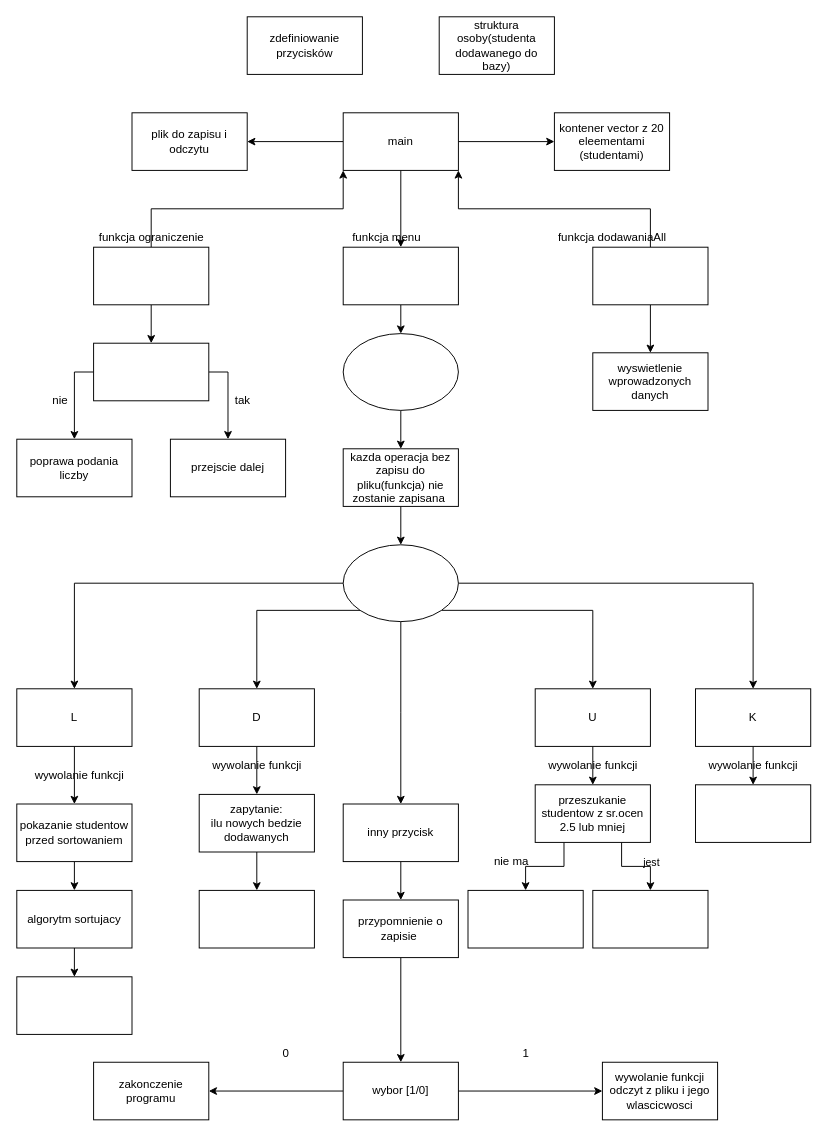
This 828x1137 diagram has some shape labels left out. The shapes that lost their labels are listed below. From the top down, each one's centre as x and y in pixels, then its label:
pixel 151 275: zapytanie ilu studentow dodawac
pixel 400 275: wyswietlenie menu
pixel 650 275: wprowadzenie imie,nazwisko,srocen, nralbumu,wiek
pixel 151 371: liczbaMax > 20
pixel 400 371: petla value != KEY_X
pixel 400 583: wybor odpowidnich przyciskow z menu
pixel 753 813: zapis do pliku, wszystkich operacji w programie
pixel 256 918: wypisanie danych nowego studenta
pixel 525 918: stosowny komunikat
pixel 650 918: usuniecie z bazy danych
pixel 74 1005: pokazanie studentow po sortowaniu
